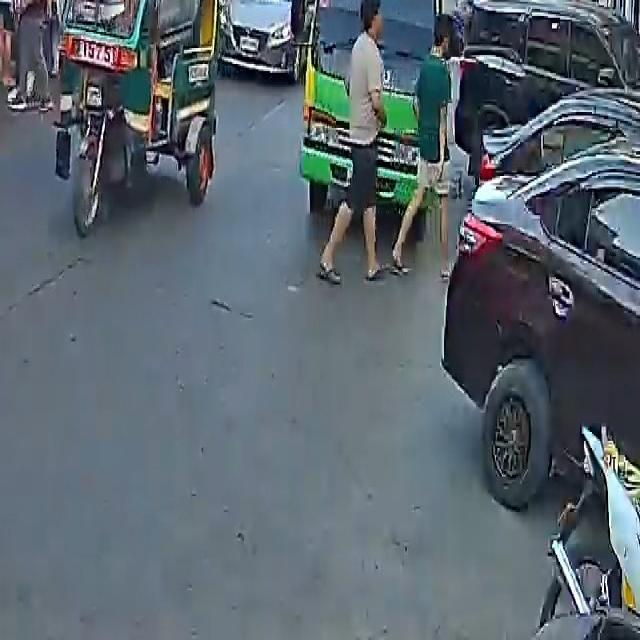car: (444, 54, 640, 539), (452, 0, 640, 213), (220, 0, 305, 80)
